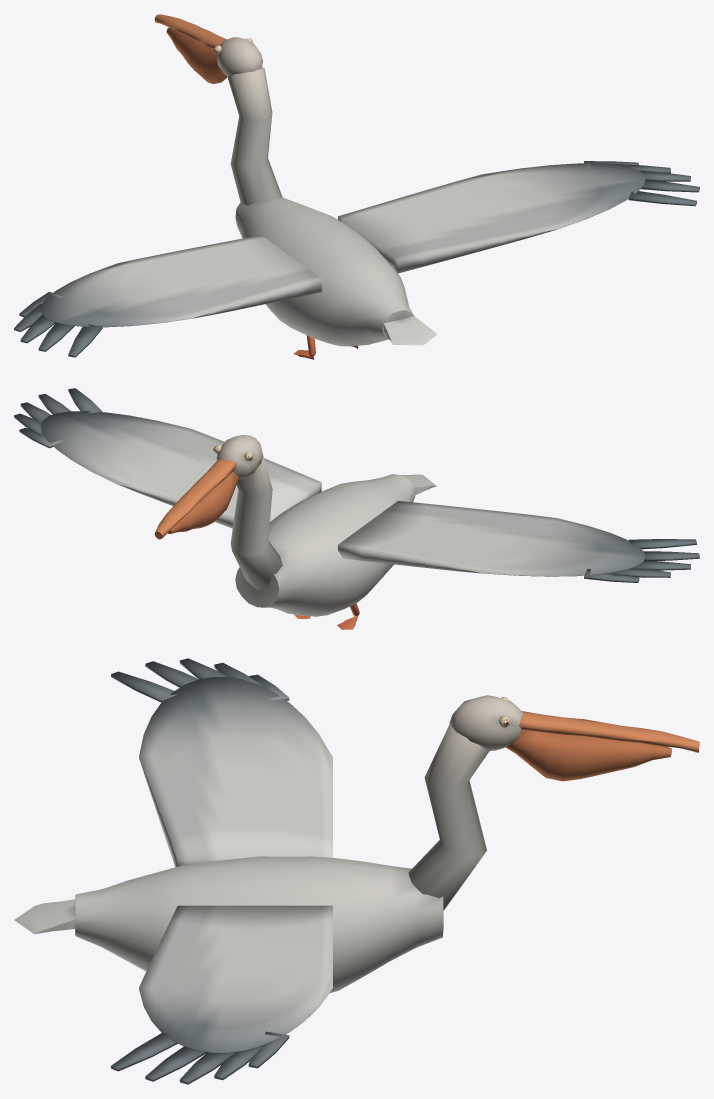
File: pelican.glb
3 renders of one model, top to bottom at view 1: azimuth 30°, elevation 25°; view 2: azimuth 150°, elevation 25°; view 3: azimuth 270°, elevation 25°, orthographic. The views are drawn at different scales.
Parts seen in each view (by area): view 1: pelican, WingR, WingL; view 2: pelican, WingL, WingR; view 3: pelican, WingL, WingR.
Part boxes in pixels (<box>): pelican: <box>154,14,436,359</box>; WingR: <box>338,161,699,273</box>; WingL: <box>14,235,321,357</box>; pelican: <box>154,435,436,629</box>; WingL: <box>338,501,699,582</box>; WingR: <box>14,388,321,528</box>; pelican: <box>14,695,699,993</box>; WingL: <box>111,658,332,867</box>; WingR: <box>111,905,332,1084</box>.
Size of the model in its own units: 2.45 by 0.8589 by 1.68.
